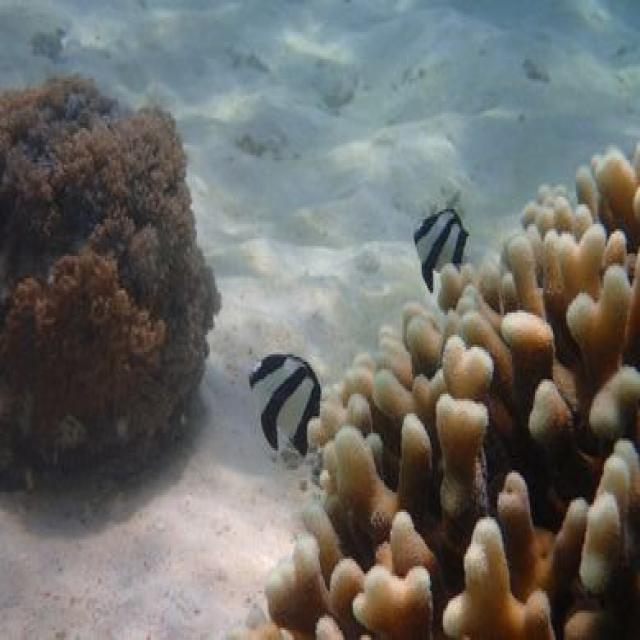Three_striped DasmselFish: (244, 352, 324, 454), (412, 204, 468, 287)
